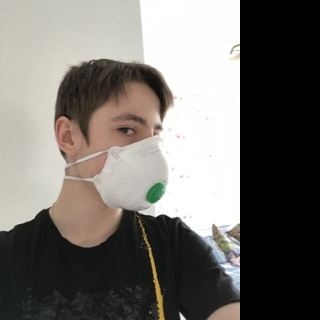with_mask: (99, 96, 170, 211)
